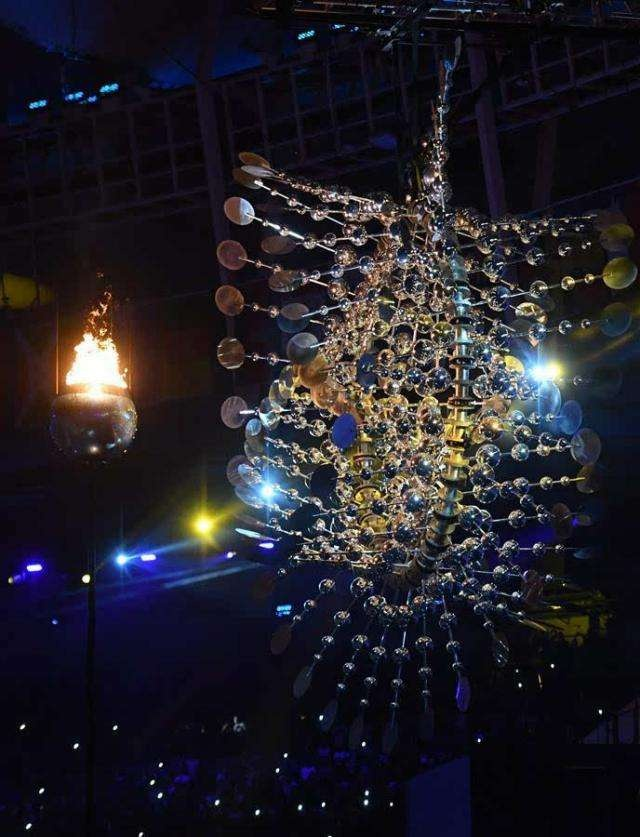fire: (63, 290, 133, 391)
